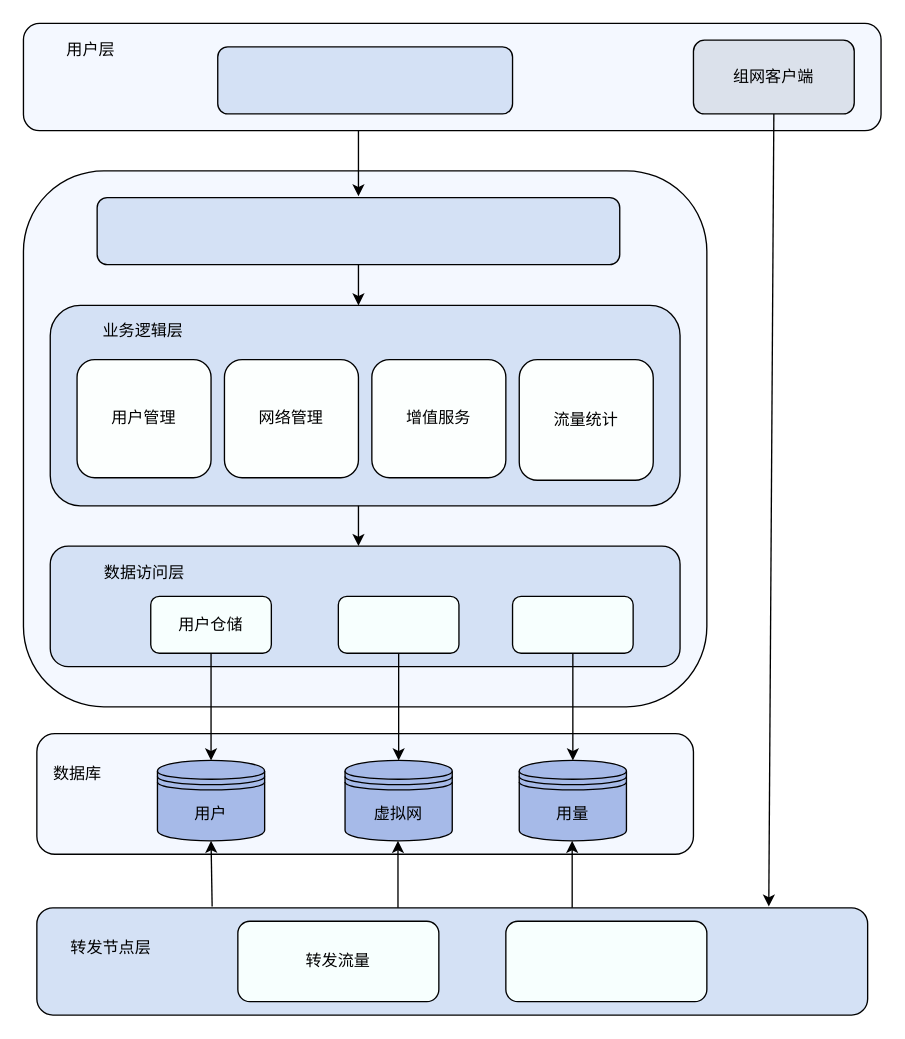
This 905x1039 diagram has some shape labels left out. Each missing label, with the centre of its shape:
流量仓储: the point at 572,624
统计数据: the point at 606,961
网络仓储: the point at 398,624
网页前端: the point at 364,80
请求处理层: the point at 358,230
